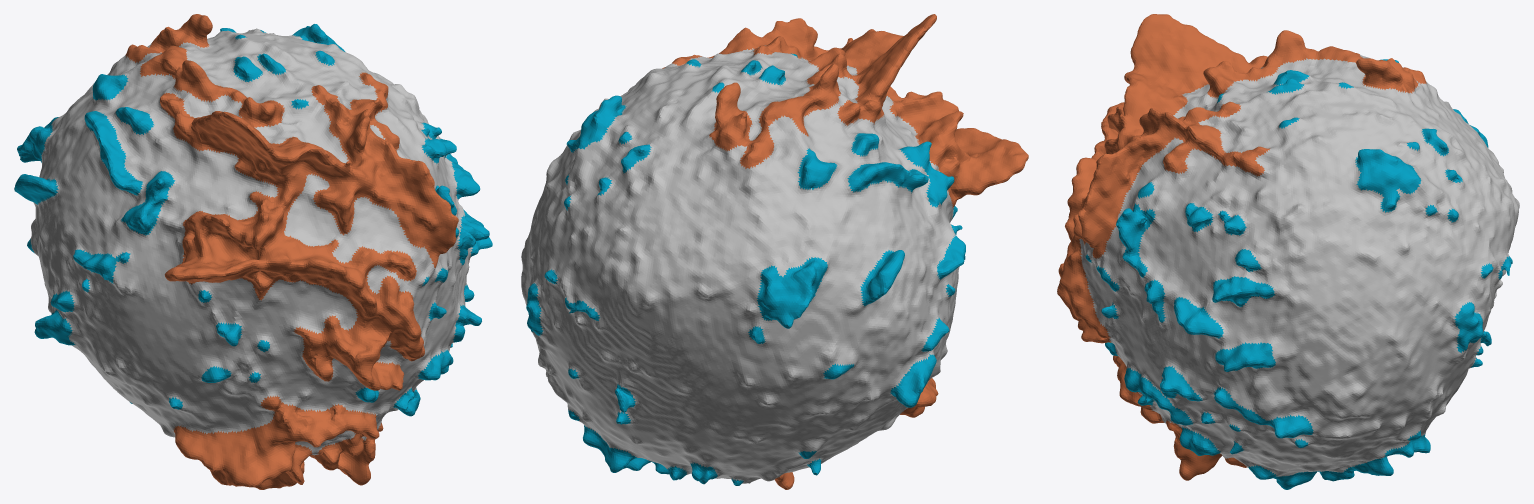
The picture shows the model from 3 angles, left to right: view 1: azimuth 30°, elevation 25°; view 2: azimuth 150°, elevation 25°; view 3: azimuth 270°, elevation 25°; orthographic projection. The views are drawn at different scales.
Size of the model in its own units: 152 by 159 by 161.
